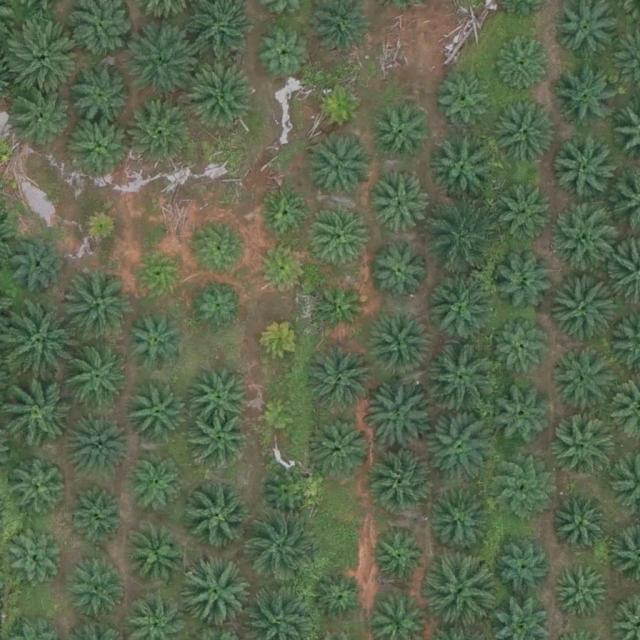Healthy: (426, 415, 497, 486), (305, 343, 376, 414), (428, 341, 498, 412), (426, 552, 497, 622), (249, 512, 319, 583), (183, 481, 253, 552), (179, 560, 249, 631), (550, 205, 620, 276), (549, 282, 619, 353), (427, 131, 497, 202), (427, 208, 498, 278), (186, 63, 256, 134), (124, 98, 194, 169), (9, 19, 79, 90), (367, 384, 437, 454), (129, 29, 199, 99), (64, 270, 134, 340), (3, 310, 73, 380), (367, 313, 430, 376), (375, 453, 438, 516), (122, 311, 185, 374), (307, 138, 370, 201), (553, 353, 615, 416), (430, 490, 492, 553), (314, 416, 376, 479), (189, 366, 251, 429), (127, 384, 189, 447), (127, 524, 189, 587), (68, 346, 130, 409), (65, 418, 128, 480), (66, 554, 128, 617), (9, 454, 71, 517), (557, 64, 619, 127), (552, 136, 615, 198), (432, 277, 495, 339), (494, 250, 556, 313), (495, 101, 558, 163), (371, 99, 433, 162), (371, 168, 433, 231), (367, 245, 429, 308), (307, 206, 369, 269), (72, 64, 134, 127), (72, 117, 134, 180), (6, 88, 68, 151), (556, 416, 618, 478), (490, 316, 552, 378), (552, 3, 614, 65), (496, 179, 558, 241), (553, 495, 608, 550), (554, 566, 609, 621), (498, 540, 553, 595), (494, 468, 549, 523), (494, 387, 549, 442), (312, 574, 367, 629), (262, 469, 317, 524), (194, 416, 249, 471), (129, 460, 184, 515), (69, 488, 124, 543), (7, 530, 62, 585), (194, 221, 249, 276), (194, 278, 249, 333), (255, 241, 310, 296), (260, 185, 315, 240), (436, 73, 491, 128), (495, 33, 550, 88), (257, 26, 312, 81), (14, 236, 69, 291), (373, 532, 427, 587), (132, 247, 186, 302), (313, 278, 367, 333)
Yellow: (314, 78, 369, 133), (258, 317, 305, 364), (261, 397, 300, 437), (80, 210, 119, 249)
